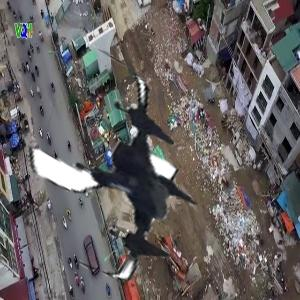drone: (3, 61, 220, 278)
